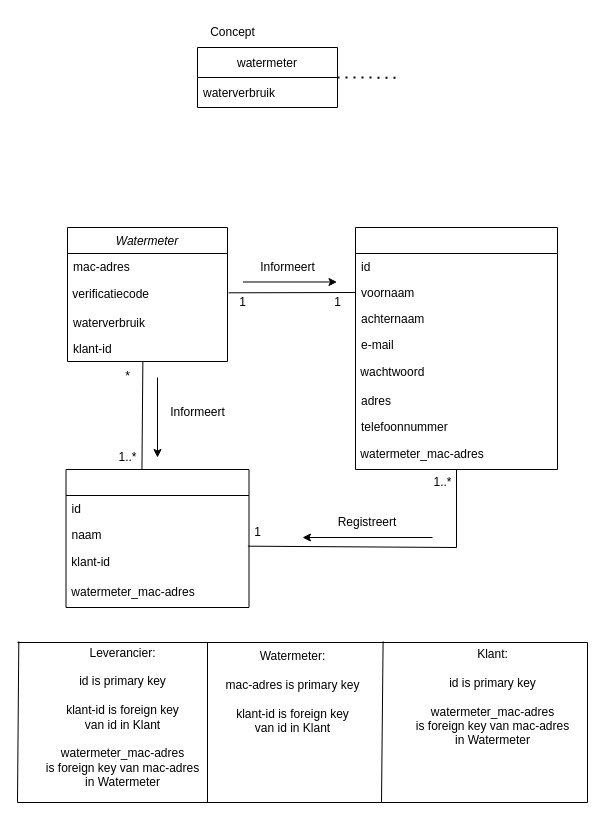
The diagram is 606 pixels wide and 821 high, and some of its shapes have lost their labels. Here are the shapes that lost their labels. From the top down, the box of each, then its label:
(354, 226, 558, 470): Klant
(65, 468, 249, 608): Leverancier
